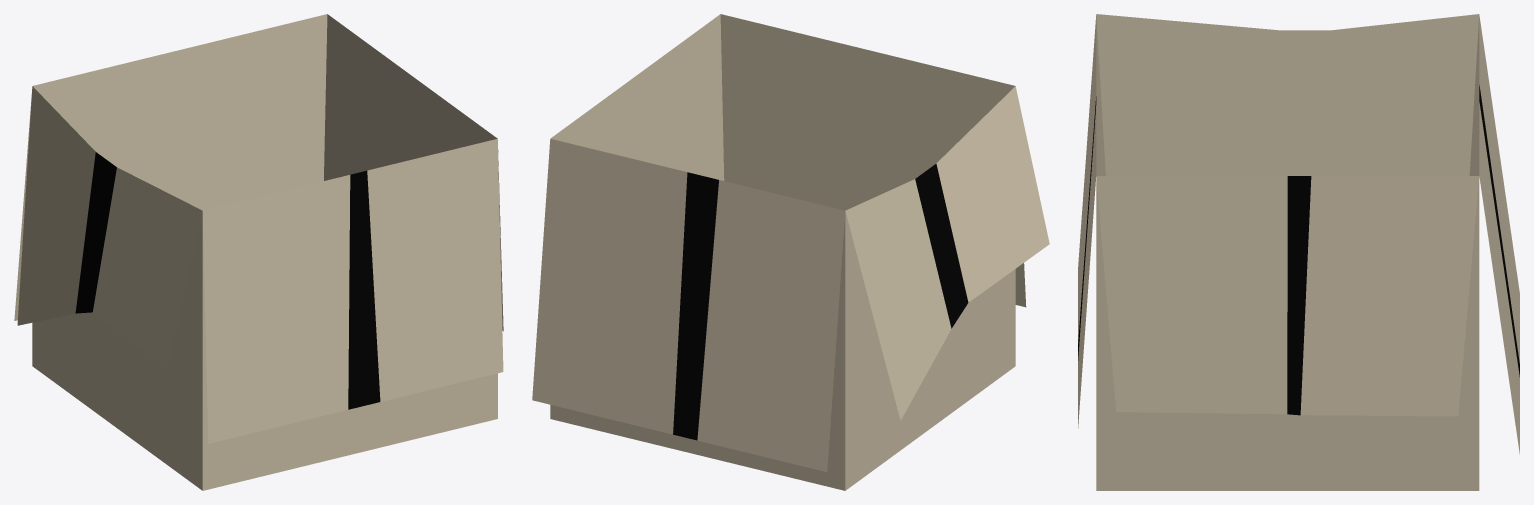
The model's file is Carton.fbx.
3 views of the same model, side by side, from view 1: azimuth 30°, elevation 25°; view 2: azimuth 150°, elevation 25°; view 3: azimuth 270°, elevation 25° (orthographic). The views are drawn at different scales.
Parts seen in each view (by area): view 1: Cube; view 2: Cube; view 3: Cube.
Part boxes in pixels (x1,y1,x2,y2): Cube: (14,14,503,490); Cube: (532,14,1049,490); Cube: (1078,14,1519,490).
Size of the model in its own units: 323 by 249 by 317.
